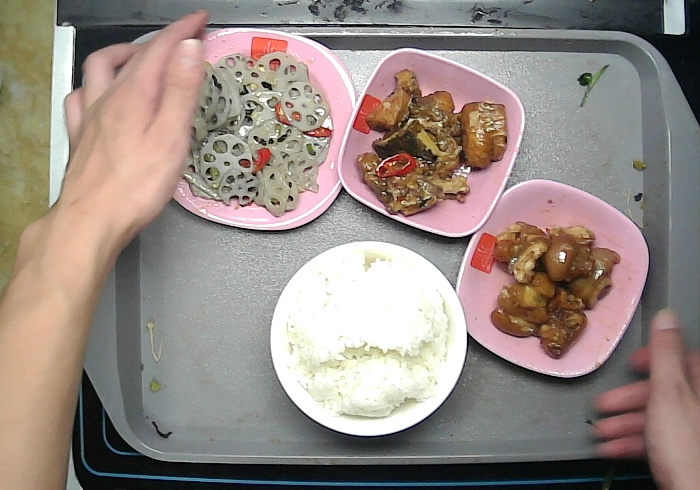SHKJ-Fan_Wan: (269, 239, 472, 439)
SHKJ-Fen_Se_Cai_Die: (454, 178, 654, 383)
SHKJ-Fen_Se_Si_Fang_Cai_Die: (163, 25, 357, 232)
SHKJ-Fen_Se_Xiao_Fang_Die: (334, 46, 527, 237)
